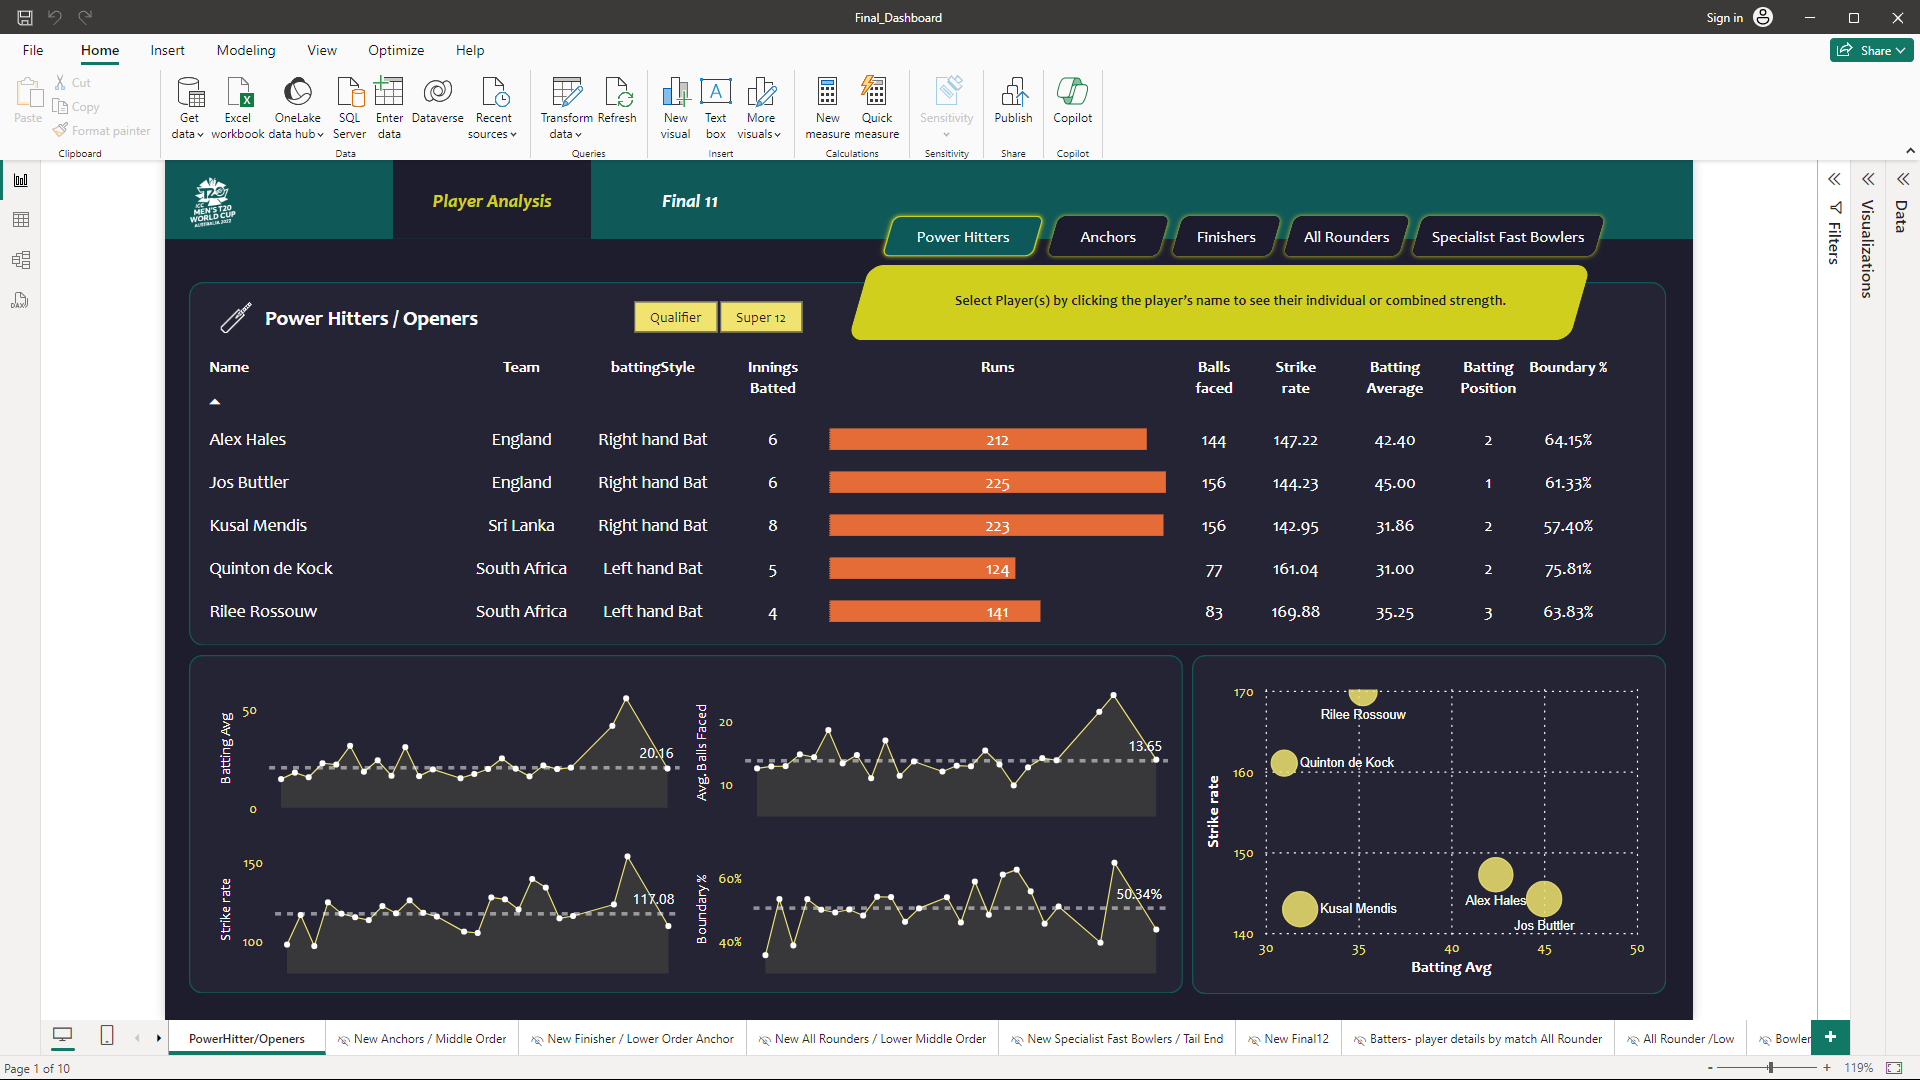

The page's visual inventory and layout, read from the dashboard file:
{"tool":"powerbi","page":{"name":"PowerHitter/Openers","canvas":[1280,720],"ordinal":0},"visuals":[{"type":"shape","box":[0,66,1280,654],"z":0},{"type":"card","fields":{"Values":["Key_Measures.Strike rate"]},"box":[867,89,93,60],"z":0,"group":"g2"},{"type":"group","id":"g1","title":"Group 2","box":[83.8,116.2,260,31.2],"z":0,"group":"g3"},{"type":"shape","box":[83.8,116.2,260,31.2],"z":0,"group":"g1"},{"type":"card","fields":{"Values":["Key_Measures.Bat Avg"]},"box":[768,89,92,60],"z":1000,"group":"g2"},{"type":"image","box":[38,114,44,36],"z":1000,"group":"g3"},{"type":"shape","box":[20,414.4,832.2,283.3],"z":1000},{"type":"actionButton","box":[734,42.6,111,42],"z":2000},{"type":"card","fields":{"Values":["Key_Measures.Boundary %"]},"box":[1063.6,92.3,110,56.7],"z":2000,"group":"g2"},{"type":"actionButton","box":[596,42.6,144,42],"z":3000},{"type":"card","fields":{"Values":["Key_Measures.Avergate Balls Faced"]},"box":[966,89,101,60],"z":3000,"group":"g2"},{"type":"actionButton","box":[838,42.6,101,42],"z":4000},{"type":"actionButton","box":[932,42.6,115,42],"z":5000},{"type":"actionButton","box":[1039,42.6,171,42],"z":6000},{"type":"image","box":[15.7,6.9,48,58.8],"z":7000},{"type":"areaChart","fields":{"Category":["dim_match_summary.Match_Date.Variation.Date Hierarchy.Day"],"Y":["Key_Measures.Boundary %"]},"box":[438.8,560,406.2,126.2],"z":9000},{"type":"shape","box":[860,414,397,284],"z":10000},{"type":"areaChart","fields":{"Category":["dim_match_summary.Match_Date.Variation.Date Hierarchy.Day"],"Y":["Key_Measures.Avergate Balls Faced"]},"box":[438.8,428.8,406.2,126.2],"z":11000},{"type":"areaChart","fields":{"Category":["dim_match_summary.Match_Date.Variation.Date Hierarchy.Day"],"Y":["Key_Measures.Bat Avg"]},"box":[146.5,592.7,395.2,127.3],"z":12000},{"type":"areaChart","fields":{"Category":["dim_match_summary.Match_Date.Variation.Date Hierarchy.Day"],"Y":["Key_Measures.Strike rate"]},"box":[40,560,396.2,126.2],"z":13000},{"type":"shape","box":[20,102.2,1236.7,304.4],"z":14000},{"type":"slicer","fields":{"Values":["dim_match_summary.stage"]},"box":[366.7,111.1,191.1,38.9],"z":15000},{"type":"shape","box":[572,88,622,63],"z":16000},{"type":"shape","box":[591,103,173,34],"z":17000},{"type":"group","id":"g2","title":"Combined Perfoamce Metrices","box":[768,89,405.6,60],"z":18000},{"type":"group","id":"g3","title":"Group 1","box":[38,114,305.8,36],"z":19000},{"type":"tableEx","fields":{"Values":["dim_player.name","dim_player.team","dim_player.Batting Style","Key_Measures.Total Matches","Key_Measures.Total Runs","Key_Measures.total balls faced","Key_Measures.Strike rate","Key_Measures.Bat Avg","Key_Measures.Batting Position","Key_Measures.Boundary %"]},"box":[26,151,1231,255],"z":20000},{"type":"scatterChart","fields":{"Y":["Key_Measures.Strike rate"],"Category":["dim_player.name"],"X":["Key_Measures.Bat Avg"],"Size":["Key_Measures.Total Runs"]},"box":[866.7,430,377.8,258.9],"z":21000},{"type":"actionButton","title":"Button Player Ana selected","box":[191,0,166,66],"z":22000},{"type":"actionButton","title":"Button Player Ana selected","box":[357,0,166,66],"z":23000},{"type":"shape","box":[612,100,560,36],"z":24000}]}

Visuals, with their boxes on the page's 1280x720 design canvas (x1, y1, x2, y2). These are canvas units, not pixel positions in the 1920x1080 screenshot, which may show the page scaled, cropped or inside an application window:
shape: 0,66,1280,720
card - Key_Measures.Strike rate: 867,89,960,149
"Group 2" group: 84,116,344,147
shape: 84,116,344,147
card - Key_Measures.Bat Avg: 768,89,860,149
image: 38,114,82,150
shape: 20,414,852,698
actionButton: 734,43,845,85
card - Key_Measures.Boundary %: 1064,92,1174,149
actionButton: 596,43,740,85
card - Key_Measures.Avergate Balls Faced: 966,89,1067,149
actionButton: 838,43,939,85
actionButton: 932,43,1047,85
actionButton: 1039,43,1210,85
image: 16,7,64,66
areaChart - dim_match_summary.Match_Date.Variation.Date Hierarchy.Day x Key_Measures.Boundary %: 439,560,845,686
shape: 860,414,1257,698
areaChart - dim_match_summary.Match_Date.Variation.Date Hierarchy.Day x Key_Measures.Avergate Balls Faced: 439,429,845,555
areaChart - dim_match_summary.Match_Date.Variation.Date Hierarchy.Day x Key_Measures.Bat Avg: 146,593,542,720
areaChart - dim_match_summary.Match_Date.Variation.Date Hierarchy.Day x Key_Measures.Strike rate: 40,560,436,686
shape: 20,102,1257,407
slicer - dim_match_summary.stage: 367,111,558,150
shape: 572,88,1194,151
shape: 591,103,764,137
"Combined Perfoamce Metrices" group: 768,89,1174,149
"Group 1" group: 38,114,344,150
tableEx - dim_player.name x dim_player.team: 26,151,1257,406
scatterChart - Key_Measures.Strike rate x dim_player.name: 867,430,1244,689
"Button Player Ana selected" actionButton: 191,0,357,66
"Button Player Ana selected" actionButton: 357,0,523,66
shape: 612,100,1172,136
